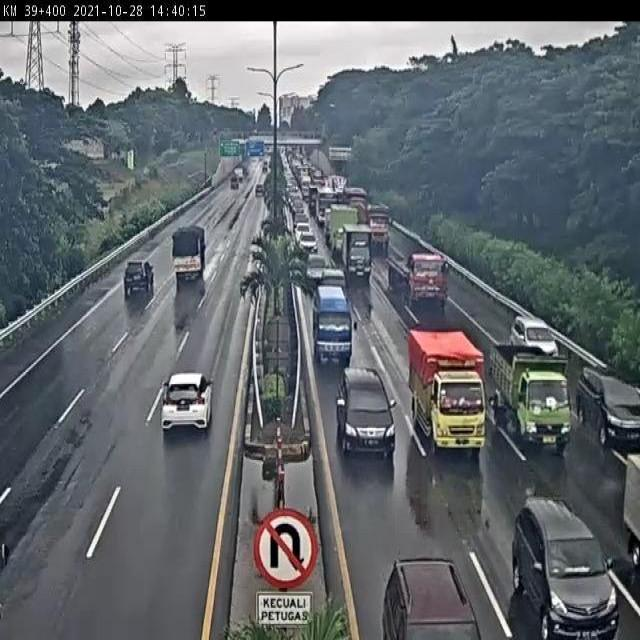bus-s-: (310, 284, 355, 365)
car: (512, 492, 622, 640), (334, 364, 397, 460), (577, 358, 640, 446), (157, 368, 214, 431), (510, 310, 561, 366), (122, 261, 153, 292), (304, 252, 331, 285), (319, 268, 348, 295), (294, 231, 319, 257)
small truck: (171, 223, 210, 280)
truck-l-: (360, 199, 391, 249)
truck-m-: (406, 324, 487, 456), (488, 336, 571, 451), (329, 203, 360, 257), (342, 225, 373, 279)
truck-xl-: (386, 247, 449, 305)
